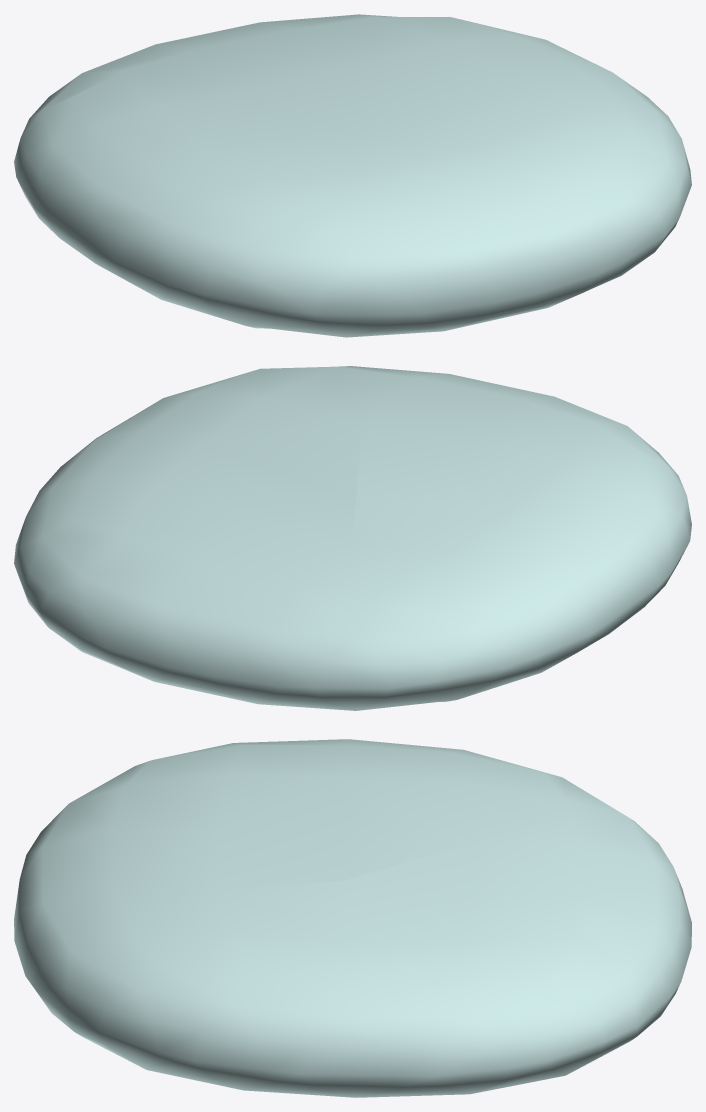
The model's file is SM_Bed_02b.fbx.
3 renders of one model, top to bottom at view 1: azimuth 30°, elevation 25°; view 2: azimuth 150°, elevation 25°; view 3: azimuth 270°, elevation 25°, orthographic. The views are drawn at different scales.
Visible parts, largest first — view 1: SM_Bed_02b; view 2: SM_Bed_02b; view 3: SM_Bed_02b.
Boxes of the visible parts, left/top/right/bottom form: SM_Bed_02b: left=14, top=14, right=691, bottom=337; SM_Bed_02b: left=14, top=366, right=691, bottom=710; SM_Bed_02b: left=14, top=739, right=691, bottom=1097.
Bounding box in the file's own units: 66.35 × 15.29 × 66.49.
